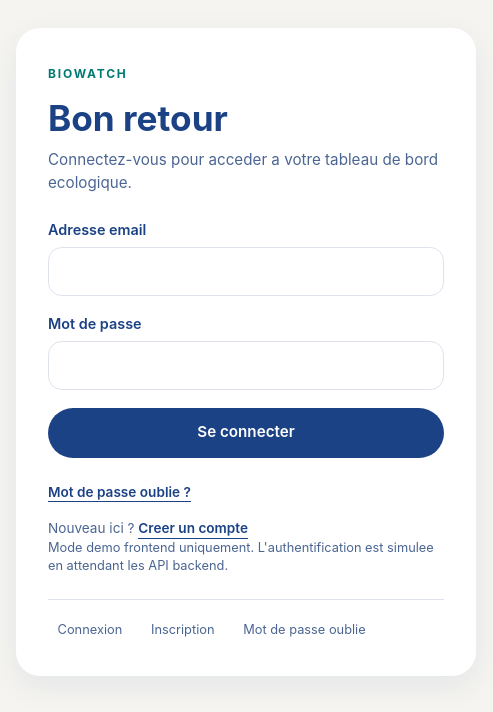
auth page flows › blocks invalid login submit and shows inline validation
Click the button "Se connecter": (246, 433) [48,408,444,458]
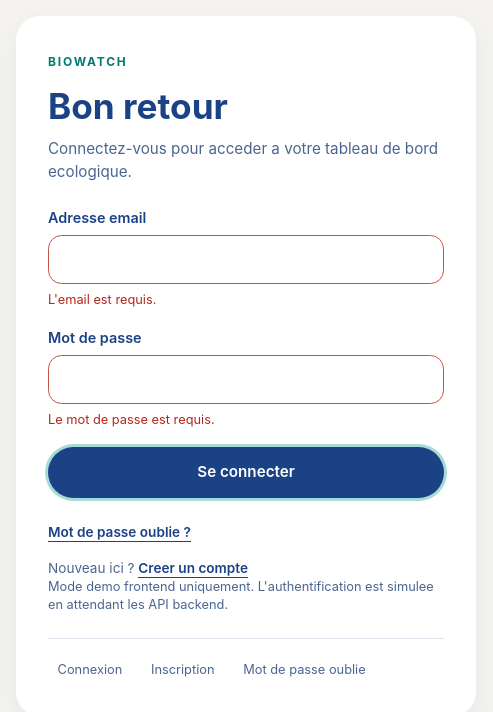
Now the text "L'email est requis." is shown, box [48,292,156,308]
Now the text "Le mot de passe est requis." is shown, box [48,412,215,427]
